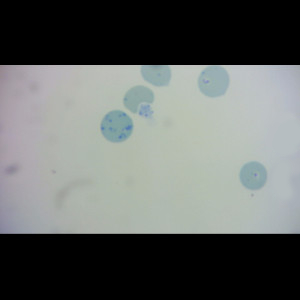aggregate reticulocyte: (100, 109, 134, 143)
erythrocyte: (197, 65, 231, 99), (238, 160, 270, 192)
punctate reticulocyte: (122, 84, 156, 115)
